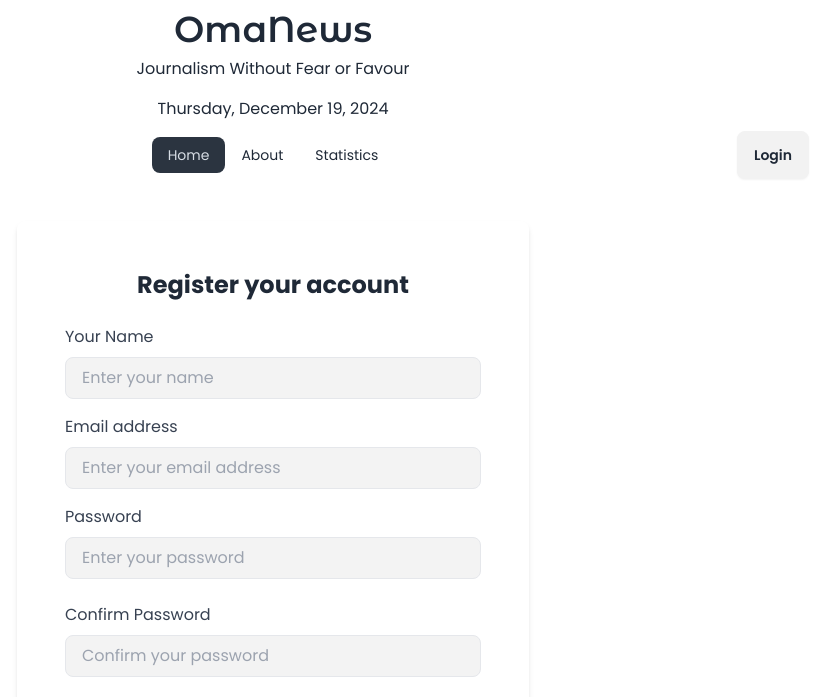
Test: Register Component › Form Validation › validates email format
The image size is (826, 697).
In the field with placeholder "Enter your email address": (273, 468) [65,447,481,489], type "invalid-email"
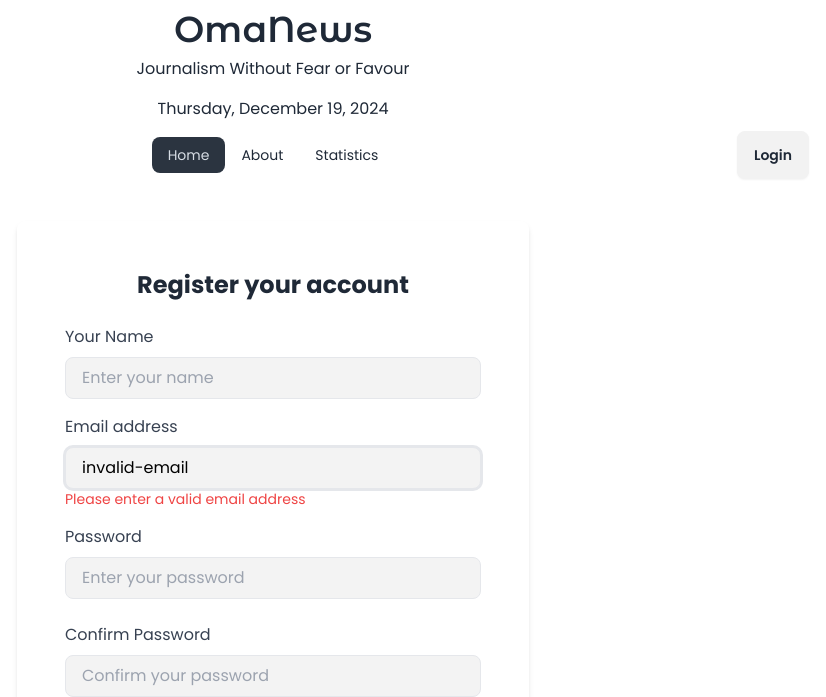
Now the text "Please enter a valid email address" is shown, box [65,489,306,509]
Replace the text in the field with placeholder "Enter your email address" with "valid@email.com": (273, 468) [65,447,481,489]
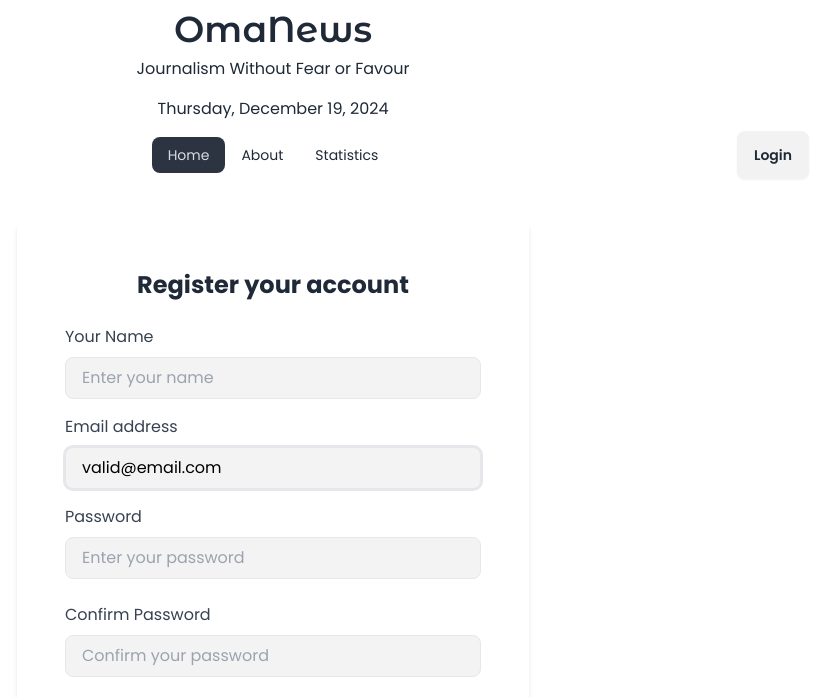
Now the text "Please enter a valid email address" is gone
